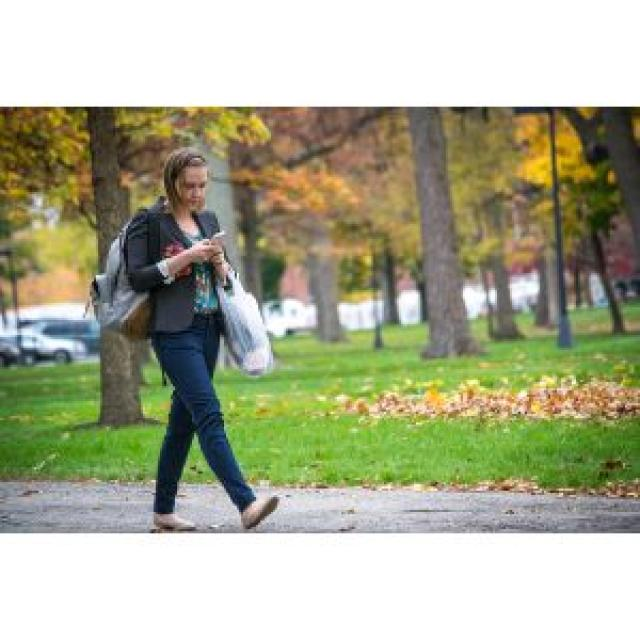nonfall: (124, 141, 287, 535)
